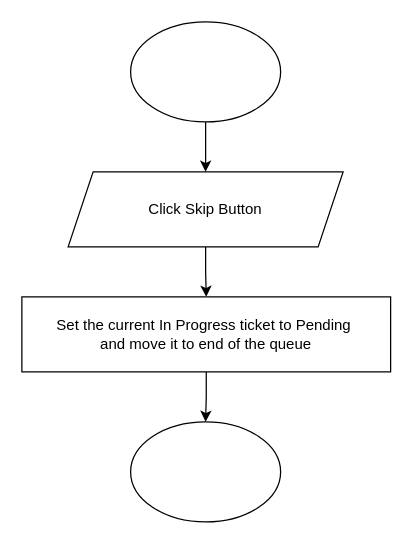
The diagram is 413 pixels wide and 544 high, and some of its shapes have lost their labels. Each missing label, with the box of its shape:
End: (129, 421, 281, 522)
Start: (129, 21, 281, 122)
